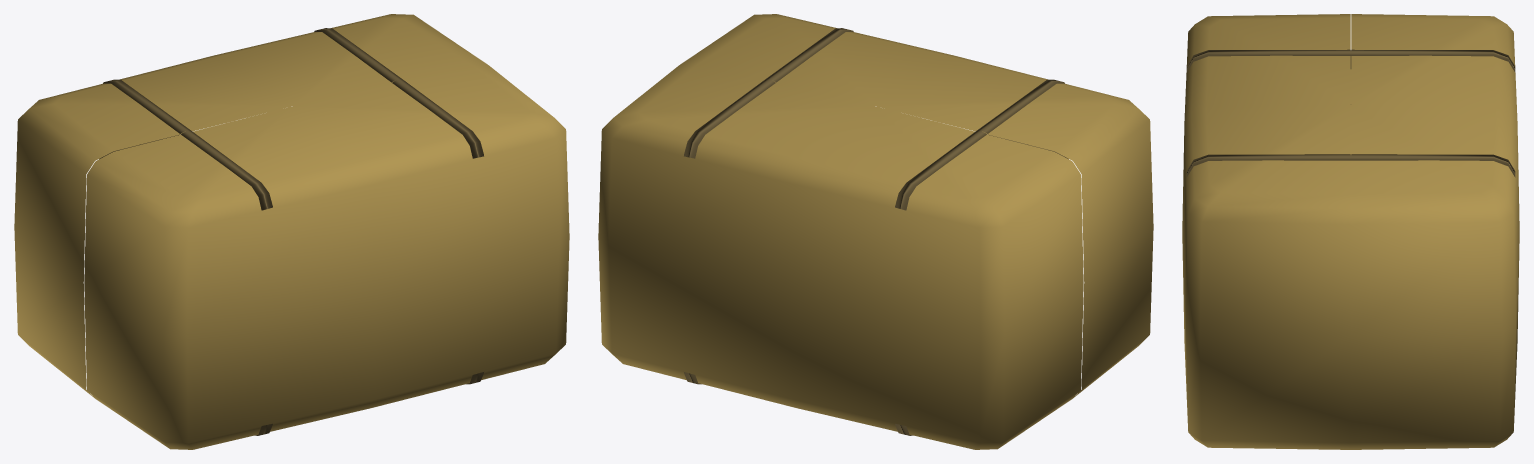
The model's file is straw_bale.glb.
The picture shows the model from 3 angles, left to right: view 1: azimuth 30°, elevation 25°; view 2: azimuth 150°, elevation 25°; view 3: azimuth 270°, elevation 25°; orthographic projection.
Visible parts, largest first — view 1: straw_bale; view 2: straw_bale; view 3: straw_bale.
Part boxes in pixels (bbox=[...]): straw_bale: bbox=[14, 14, 569, 449]; straw_bale: bbox=[598, 14, 1153, 449]; straw_bale: bbox=[1182, 14, 1519, 449].
Size of the model in its own units: 1.3 by 0.758 by 0.9.
